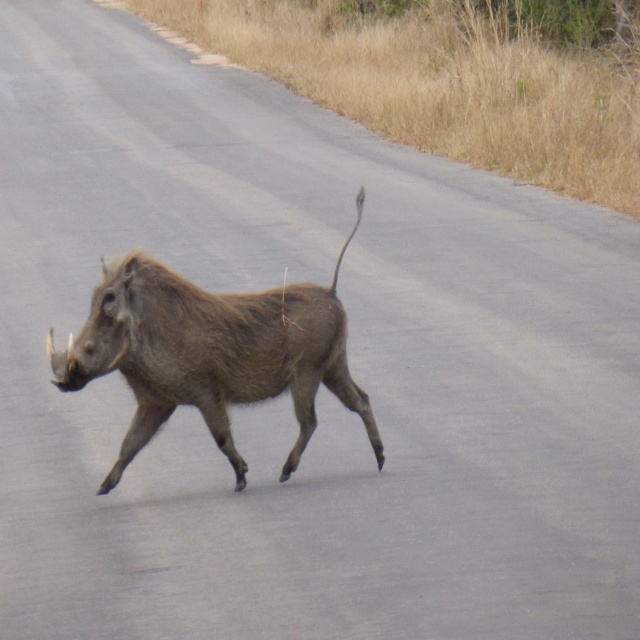Pig: (46, 183, 385, 497)
